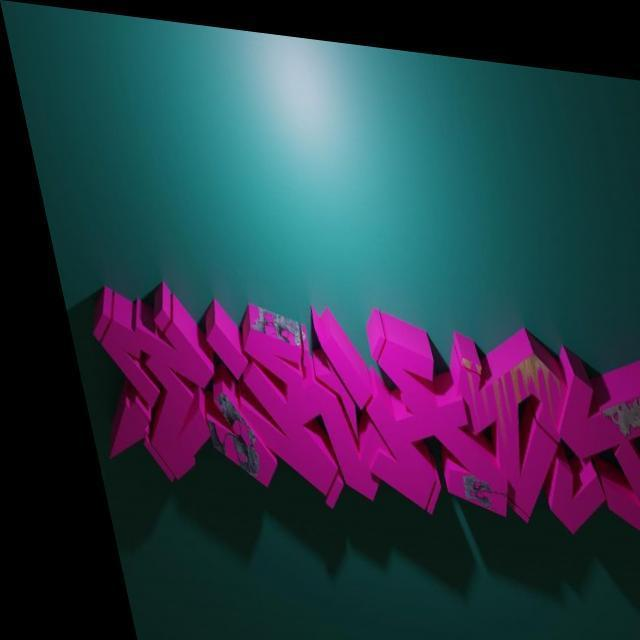-: (48, 258, 640, 640)
